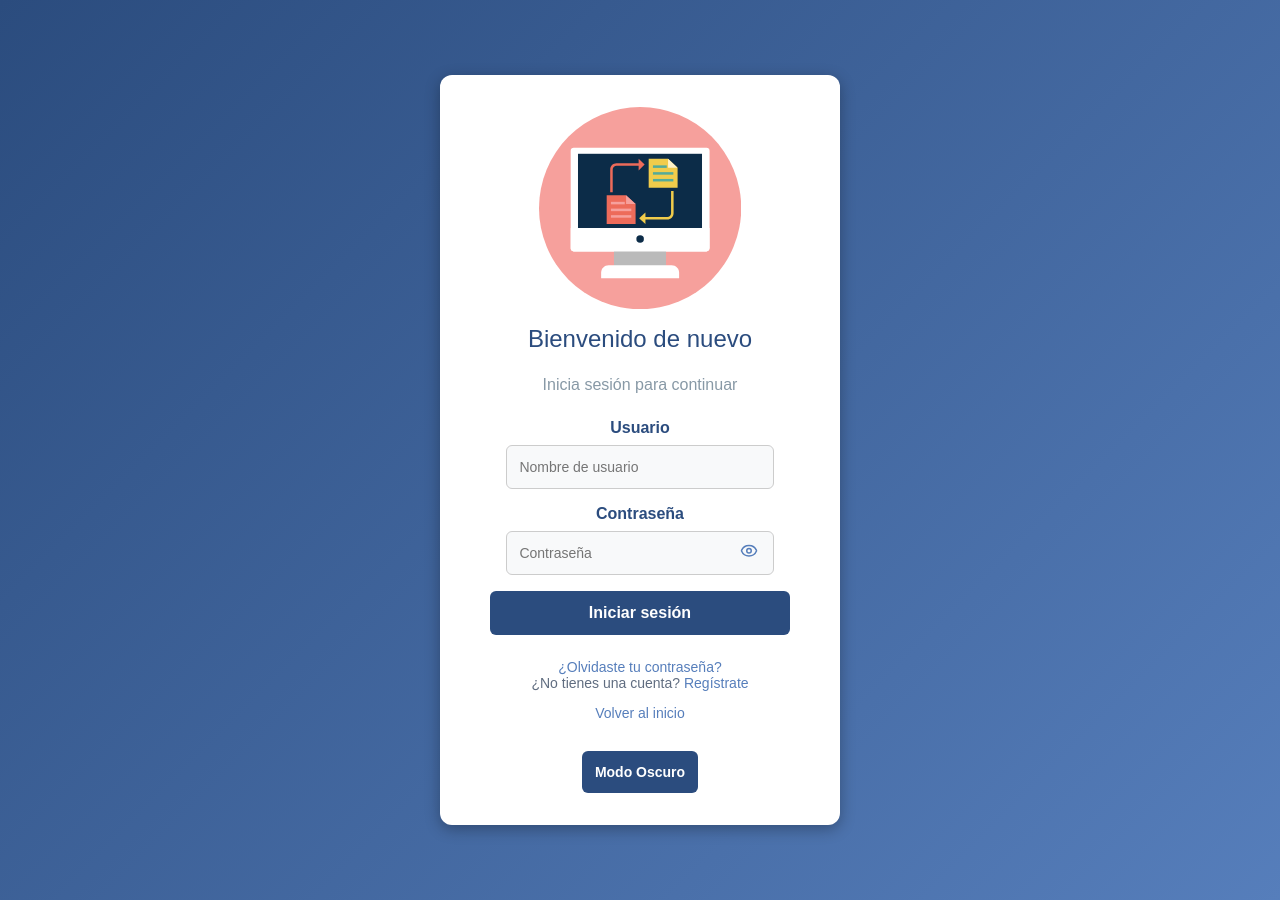
Login (formulario) › muestra el mensaje de error del servidor si las credenciales fallan
Type "jose" into the field labelled "Usuario" at x=640, y=467, box [506,445,774,489]
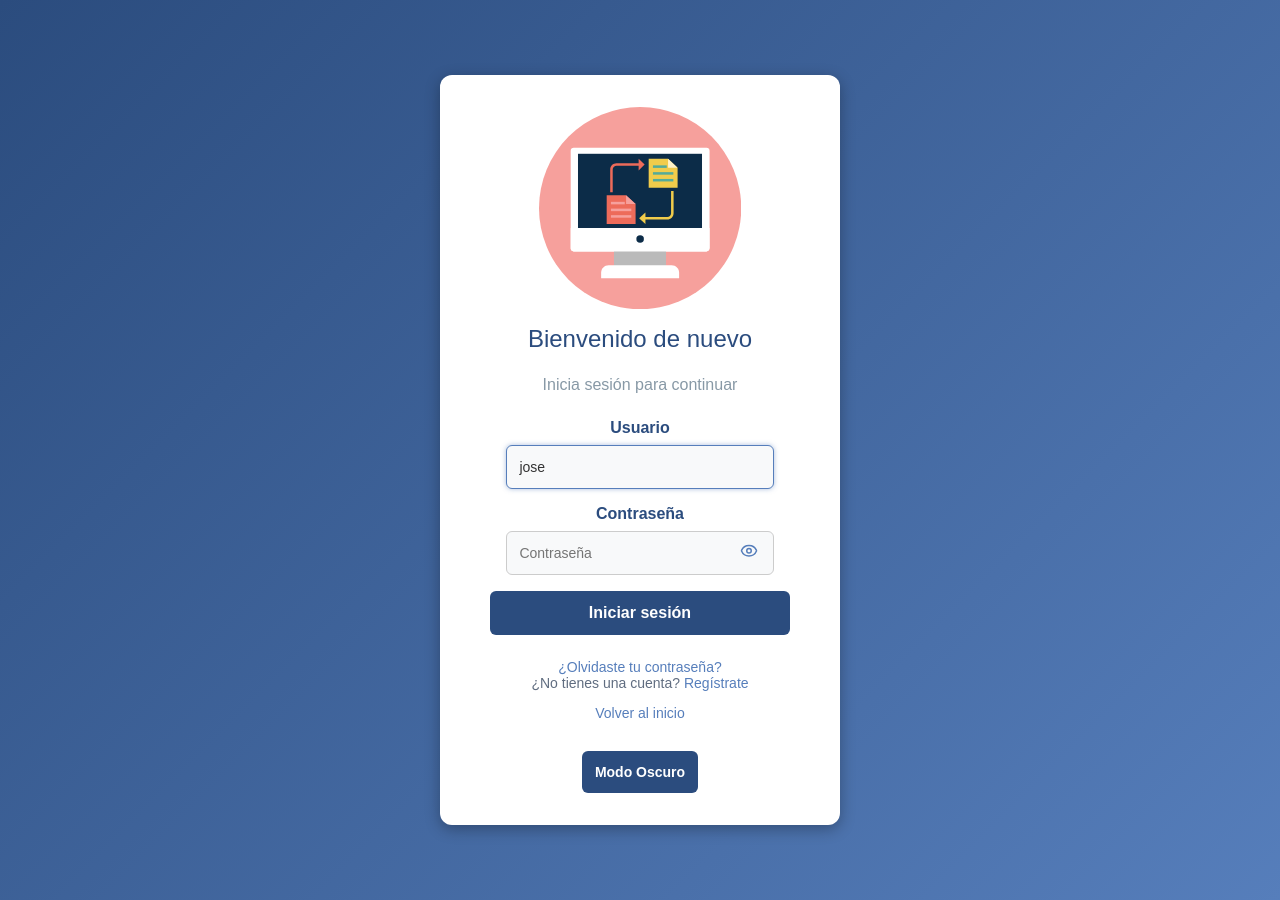
Type "mala" into the password field labelled "Contraseña" at x=640, y=553, box [506,531,774,575]
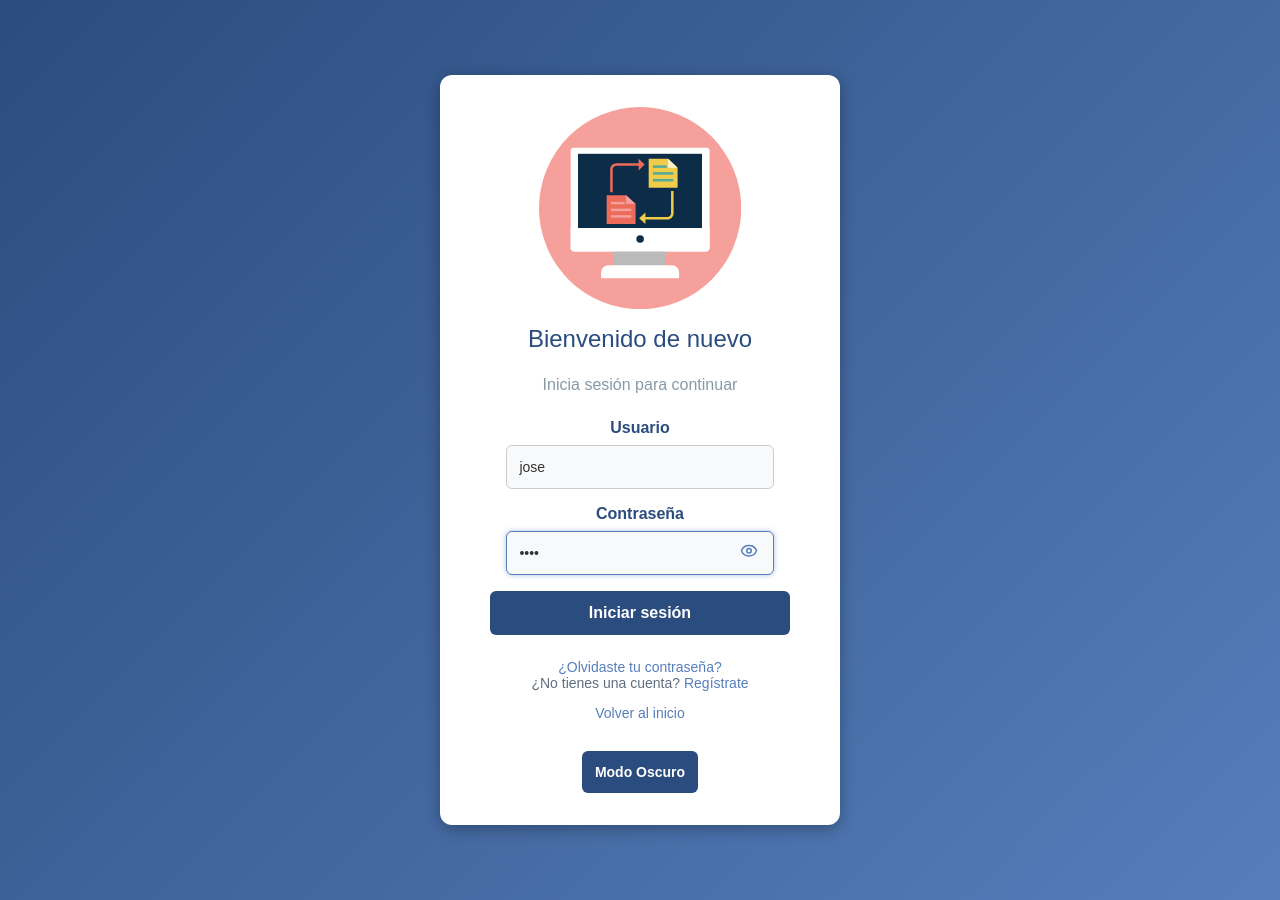
Click the button "Iniciar sesión" at x=640, y=613, box [490,591,790,635]
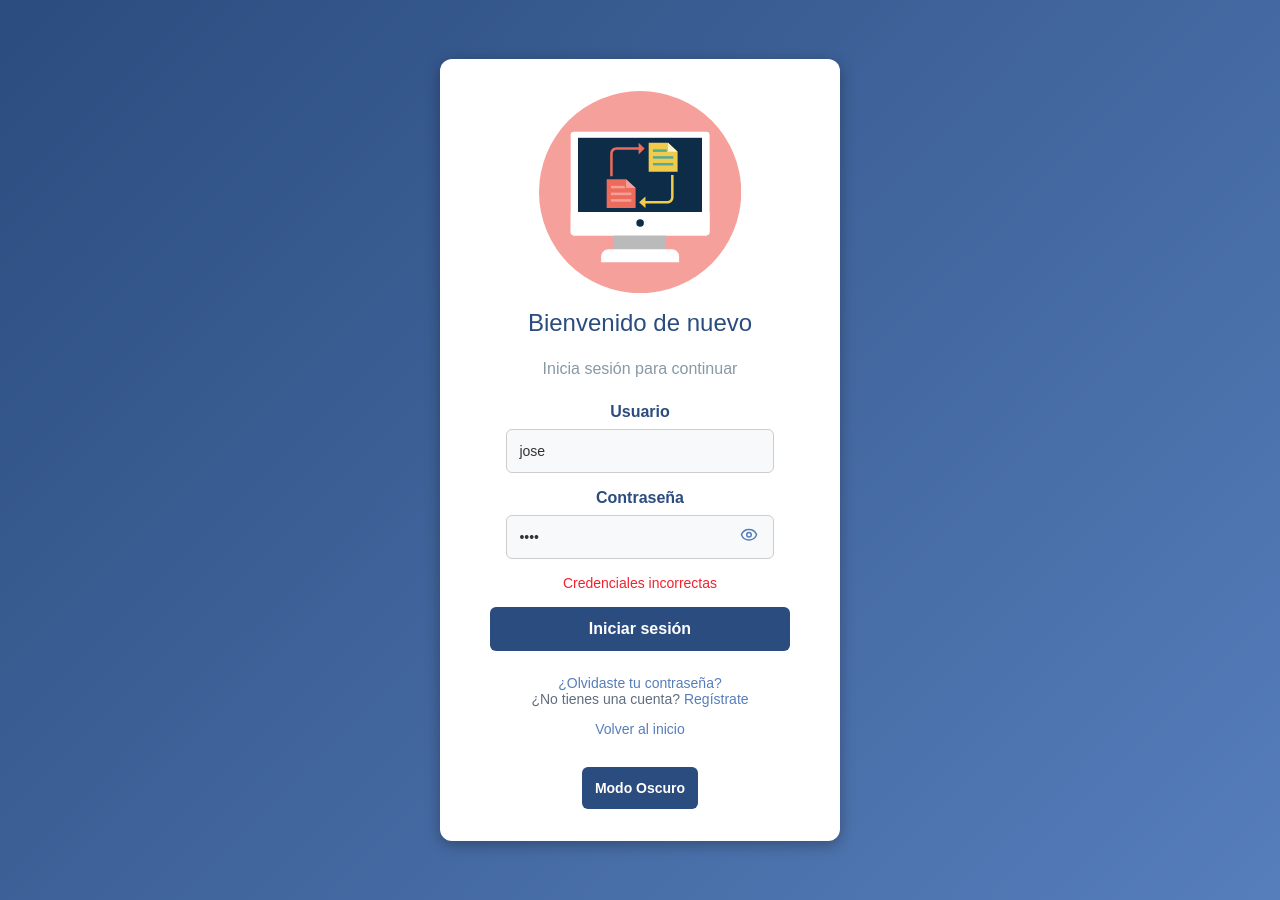
Result: the text "Credenciales incorrectas" is shown at [563,575,717,591]
